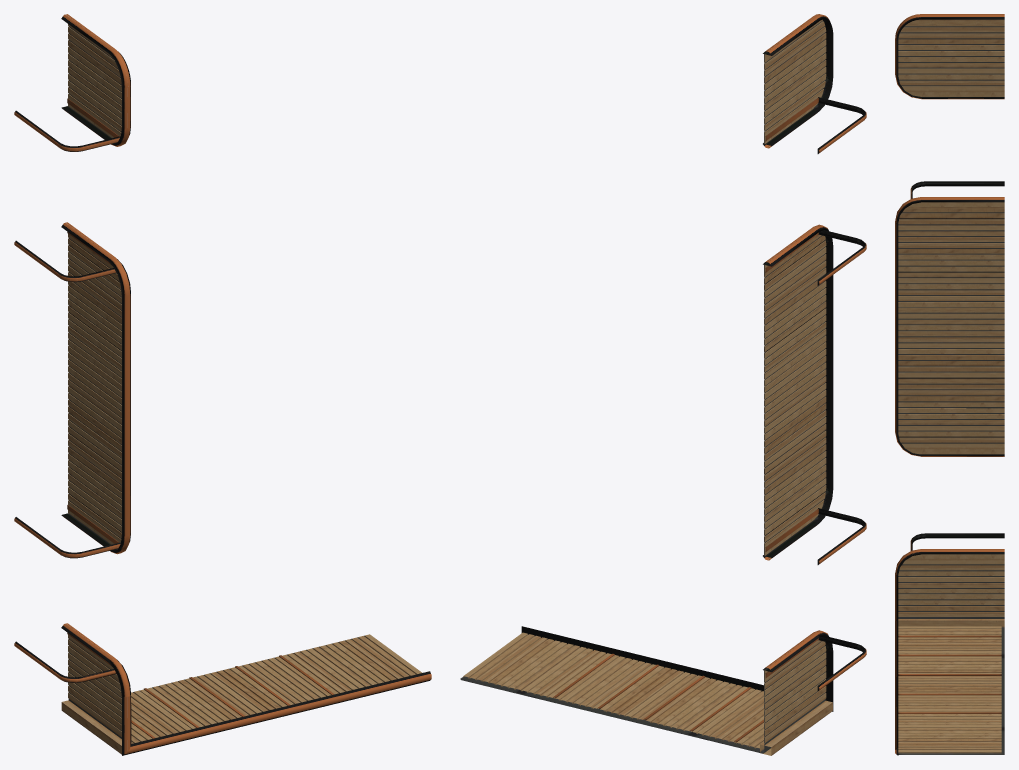
The model's file is nt_hydro_courtyard_LOD1.obj.
3 views of the same model, side by side, from view 1: azimuth 30°, elevation 25°; view 2: azimuth 150°, elevation 25°; view 3: azimuth 270°, elevation 25° (orthographic). The views are drawn at different scales.
Visible parts, largest first — view 1: nt_wood_fence, mtl_nt_hydro_cabbage_holders; view 2: nt_wood_fence, mtl_nt_hydro_cabbage_holders; view 3: nt_wood_fence, mtl_nt_hydro_cabbage_holders.
Part boxes in pixels (x1,y1,x2,y2): nt_wood_fence: (61,24,422,754); mtl_nt_hydro_cabbage_holders: (14,14,431,755); nt_wood_fence: (463,19,832,755); mtl_nt_hydro_cabbage_holders: (460,14,866,753); nt_wood_fence: (898,19,1004,753); mtl_nt_hydro_cabbage_holders: (895,14,1004,755).
Size of the model in its own units: 732 by 1371 by 223.
